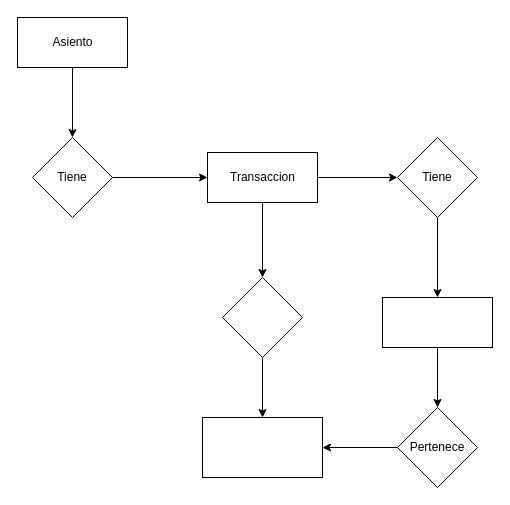
Some shapes in this 510 by 505 pixel diagram are drawn without their labels. Here are the shapes that lost their labels. From the top down, the centre of each, then its label:
At pixel 262 317: "Sobre".
At pixel 437 322: "Cuentas".
At pixel 262 447: "Tipo Cuenta".
